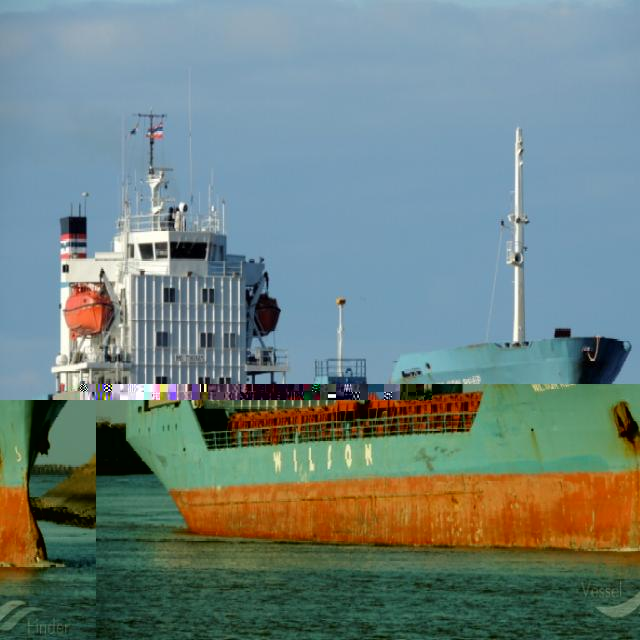OCR: (173, 444, 282, 479), (432, 374, 488, 396)
